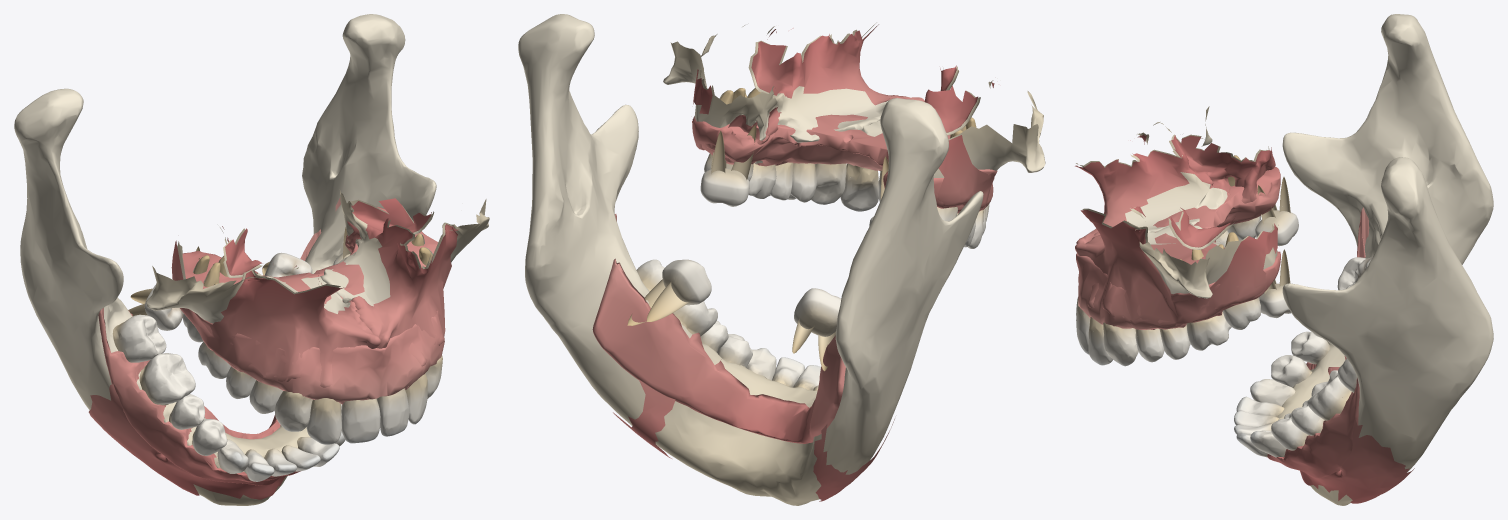
Rendered from dentition-bp3d.glb.
3 renders of one model, left to right at view 1: azimuth 30°, elevation 25°; view 2: azimuth 150°, elevation 25°; view 3: azimuth 270°, elevation 25°, orthographic. The views are drawn at different scales.
Visible parts, largest first — view 1: mandible, gingiva_upper, gingiva_lower, maxilla, tooth_46_enamel, tooth_47_enamel, tooth_11_enamel, tooth_21_enamel, tooth_13_enamel, tooth_12_enamel, tooth_44_enamel, tooth_45_enamel (+12 smaller); view 2: mandible, gingiva_lower, gingiva_upper, maxilla, tooth_48_enamel, tooth_38_enamel, tooth_28_enamel, tooth_23_enamel, tooth_22_enamel, tooth_38_dentin, tooth_36_enamel, tooth_24_enamel (+6 smaller); view 3: mandible, gingiva_upper, gingiva_lower, maxilla, tooth_36_enamel, tooth_23_enamel, tooth_26_enamel, tooth_18_enamel, tooth_44_enamel, tooth_45_enamel, tooth_43_enamel, tooth_34_enamel (+11 smaller).
Part boxes in pixels (left/top/right/bottom): mandible: left=14, top=14, right=436, bottom=505; gingiva_upper: left=171, top=198, right=458, bottom=404; gingiva_lower: left=88, top=197, right=340, bottom=499; maxilla: left=146, top=190, right=489, bottom=323; tooth_46_enamel: left=142, top=353, right=195, bottom=405; tooth_47_enamel: left=116, top=314, right=166, bottom=362; tooth_11_enamel: left=341, top=398, right=380, bottom=443; tooth_21_enamel: left=377, top=389, right=408, bottom=436; tooth_13_enamel: left=274, top=391, right=312, bottom=431; tooth_12_enamel: left=306, top=404, right=341, bottom=444; tooth_44_enamel: left=192, top=419, right=227, bottom=455; tooth_45_enamel: left=170, top=394, right=205, bottom=429; mandible: left=518, top=14, right=983, bottom=505; gingiva_lower: left=592, top=214, right=894, bottom=501; gingiva_upper: left=692, top=24, right=997, bottom=213; maxilla: left=663, top=22, right=1045, bottom=177; tooth_48_enamel: left=794, top=288, right=841, bottom=343; tooth_38_enamel: left=657, top=259, right=711, bottom=305; tooth_28_enamel: left=700, top=161, right=749, bottom=206; tooth_23_enamel: left=811, top=163, right=846, bottom=204; tooth_22_enamel: left=840, top=175, right=878, bottom=211; tooth_38_dentin: left=627, top=281, right=687, bottom=325; tooth_36_enamel: left=673, top=301, right=717, bottom=336; tooth_24_enamel: left=787, top=164, right=816, bottom=202; mandible: left=1277, top=14, right=1493, bottom=505; gingiva_upper: left=1075, top=134, right=1280, bottom=329; gingiva_lower: left=1267, top=207, right=1414, bottom=503; maxilla: left=1076, top=106, right=1278, bottom=298; tooth_36_enamel: left=1307, top=370, right=1350, bottom=420; tooth_23_enamel: left=1103, top=326, right=1138, bottom=366; tooth_26_enamel: left=1186, top=313, right=1231, bottom=350; tooth_18_enamel: left=1255, top=203, right=1298, bottom=246; tooth_44_enamel: left=1271, top=355, right=1310, bottom=387; tooth_45_enamel: left=1291, top=331, right=1329, bottom=364; tooth_43_enamel: left=1250, top=379, right=1295, bottom=406; tooth_34_enamel: left=1271, top=413, right=1308, bottom=450.
Bounding box in the file's own units: 100 × 105 × 98.47.
